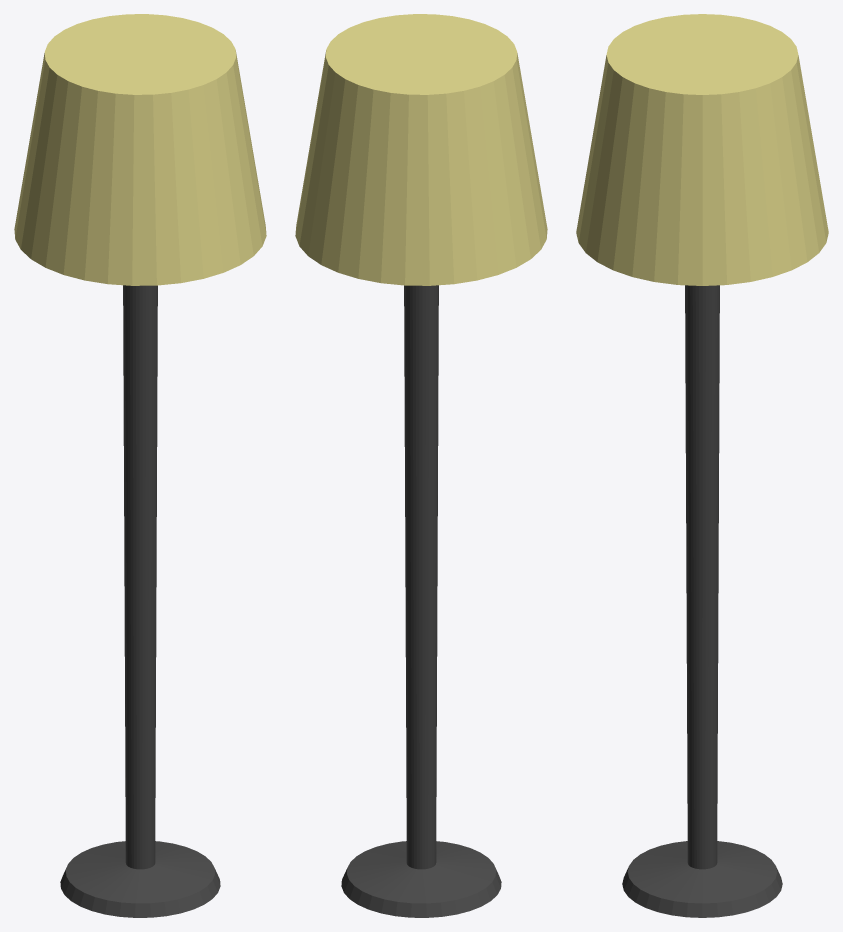
The model's file is lampu.fbx.
3 views of the same model, side by side, from view 1: azimuth 30°, elevation 25°; view 2: azimuth 150°, elevation 25°; view 3: azimuth 270°, elevation 25° (orthographic).
Parts seen in each view (by area): view 1: Cylinder, Cylinder.001; view 2: Cylinder, Cylinder.001; view 3: Cylinder, Cylinder.001.
Boxes of the visible parts, left/top/right/bottom form: Cylinder: left=14, top=14, right=266, bottom=285; Cylinder.001: left=60, top=285, right=220, bottom=917; Cylinder: left=295, top=14, right=547, bottom=285; Cylinder.001: left=341, top=285, right=501, bottom=917; Cylinder: left=576, top=14, right=828, bottom=285; Cylinder.001: left=622, top=285, right=782, bottom=917.
Bounding box in the file's own units: 291 × 1055 × 291.
